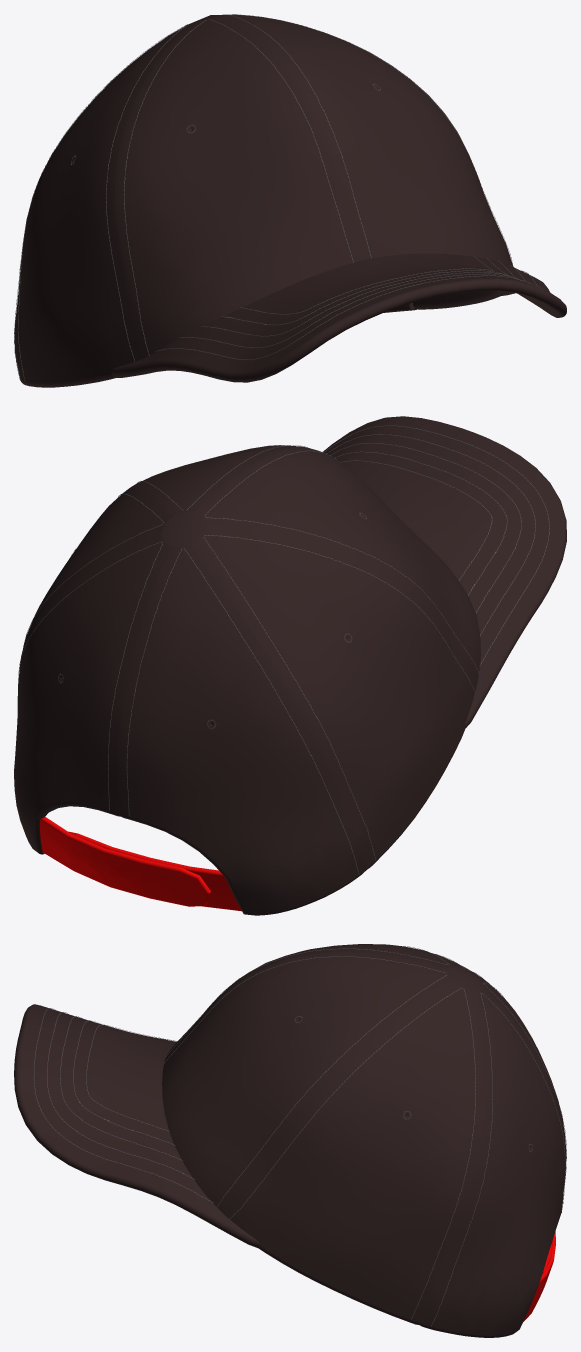
The model's file is black_cap.glb.
3 views of the same model, one above another, from view 1: azimuth 30°, elevation 25°; view 2: azimuth 150°, elevation 25°; view 3: azimuth 270°, elevation 25° (orthographic). The views are drawn at different scales.
Visible parts, largest first — view 1: Pattern2D_19150_Node_4, Pattern2D_19139_Node_5, Pattern2D_19142_Node_3, Pattern2D_2289809_Node_9, Pattern2D_19137_Node_6; view 2: Pattern2D_19144_Node_2, Pattern2D_19142_Node_3, Pattern2D_2289809_Node_9, Pattern2D_19148_Node_7, Pattern2D_19150_Node_4, Pattern2D_2477926_Node_8, Pattern2D_19137_Node_6, Pattern2D_19139_Node_5, Pattern2D_2477926_199334_Node_11, Pattern2D_4155019_Node_10; view 3: Pattern2D_19137_Node_6, Pattern2D_19139_Node_5, Pattern2D_19148_Node_7, Pattern2D_2289809_Node_9, Pattern2D_19150_Node_4, Pattern2D_19144_Node_2, Pattern2D_4155019_Node_10.
Boxes of the visible parts, x1,y1,x2,y2 form: Pattern2D_19150_Node_4: (115, 17, 362, 358); Pattern2D_19139_Node_5: (221, 14, 512, 266); Pattern2D_19142_Node_3: (16, 23, 195, 387); Pattern2D_2289809_Node_9: (111, 253, 566, 382); Pattern2D_19137_Node_6: (413, 290, 503, 309); Pattern2D_19144_Node_2: (117, 544, 367, 915); Pattern2D_19142_Node_3: (195, 526, 477, 869); Pattern2D_2289809_Node_9: (322, 416, 566, 727); Pattern2D_19148_Node_7: (14, 533, 171, 854); Pattern2D_19150_Node_4: (196, 447, 480, 682); Pattern2D_2477926_Node_8: (40, 817, 210, 906); Pattern2D_19137_Node_6: (25, 487, 172, 640); Pattern2D_19139_Node_5: (130, 445, 307, 515); Pattern2D_2477926_199334_Node_11: (68, 831, 241, 911); Pattern2D_4155019_Node_10: (161, 511, 206, 547); Pattern2D_19137_Node_6: (224, 982, 483, 1324); Pattern2D_19139_Node_5: (162, 952, 453, 1213); Pattern2D_19148_Node_7: (419, 989, 566, 1337); Pattern2D_2289809_Node_9: (14, 1004, 259, 1247); Pattern2D_19150_Node_4: (164, 944, 456, 1060); Pattern2D_19144_Node_2: (476, 976, 566, 1207); Pattern2D_4155019_Node_10: (445, 966, 483, 991).
Size of the model in its own units: 0.1847 by 0.1715 by 0.2619.
10 materials, 7 textured.
